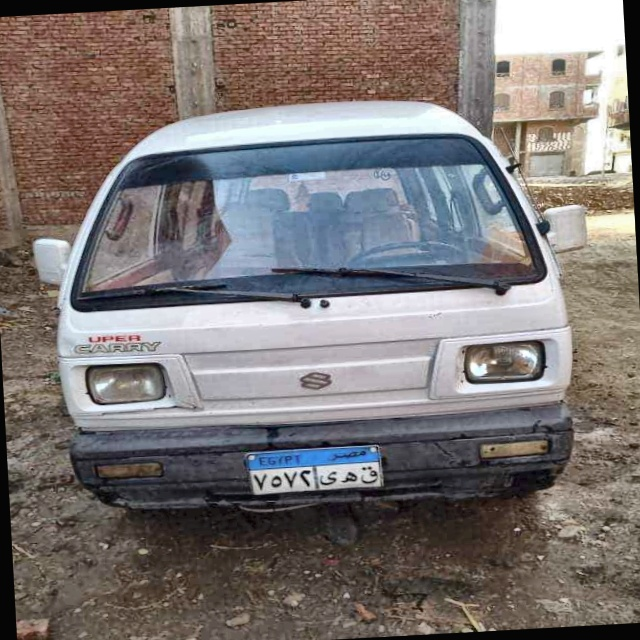License Plate: (244, 444, 385, 498)
